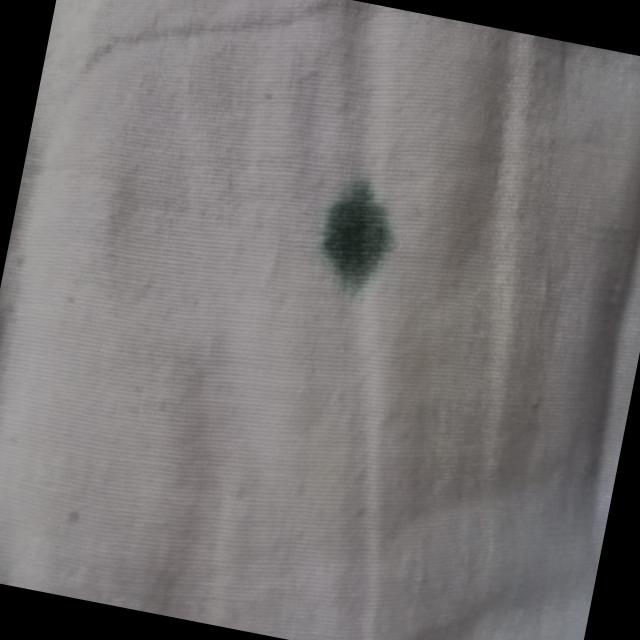stain: (306, 167, 410, 303)
